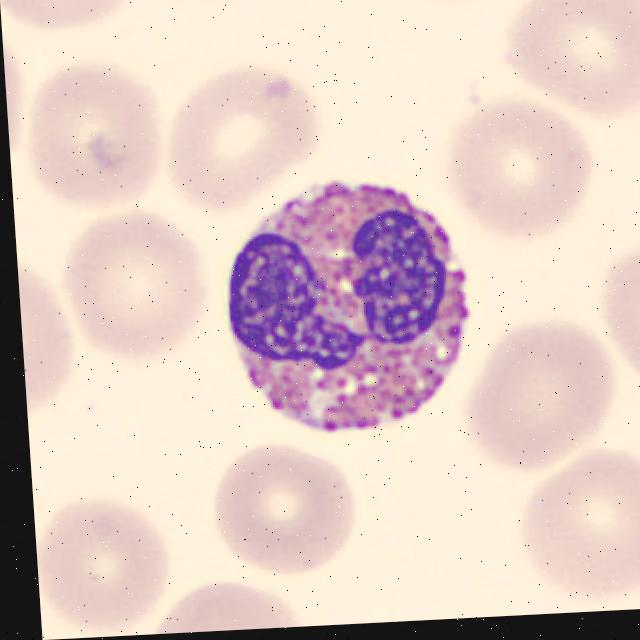eosinophil: (211, 154, 483, 446)
rbc: (457, 316, 626, 479), (164, 60, 335, 218), (57, 204, 217, 369), (22, 58, 179, 213), (208, 438, 379, 577), (441, 99, 599, 246), (516, 442, 640, 612), (33, 491, 174, 640), (497, 0, 640, 129), (18, 261, 84, 429), (140, 577, 310, 635), (598, 249, 640, 405), (0, 0, 166, 37), (4, 55, 37, 165), (384, 0, 527, 13)
